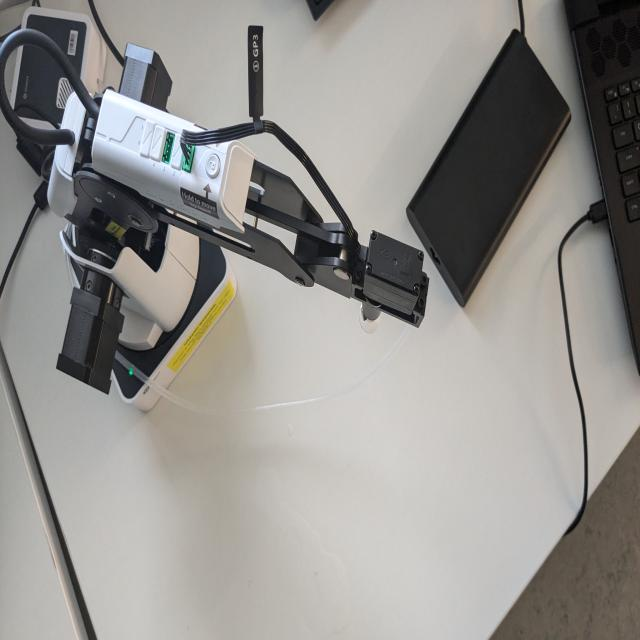Robot-end-effector-HF8z: (355, 227, 431, 345)
